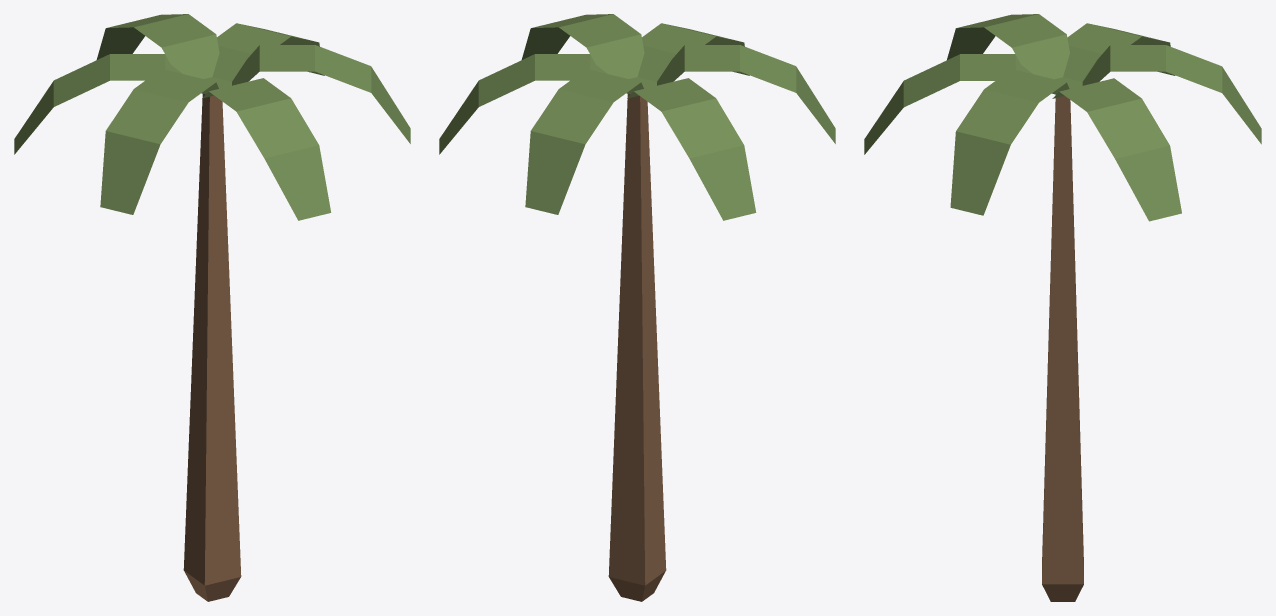
File: tree_palm.glb
3 renders of one model, left to right at view 1: azimuth 30°, elevation 25°; view 2: azimuth 150°, elevation 25°; view 3: azimuth 270°, elevation 25°, orthographic.
Parts seen in each view (by area): view 1: tree_palm; view 2: tree_palm; view 3: tree_palm.
Part boxes in pixels (x1,y1,x2,y2): tree_palm: (14, 14, 410, 601); tree_palm: (439, 14, 835, 601); tree_palm: (864, 14, 1261, 601).
Size of the model in its own units: 0.9355 by 1.51 by 1.01.
